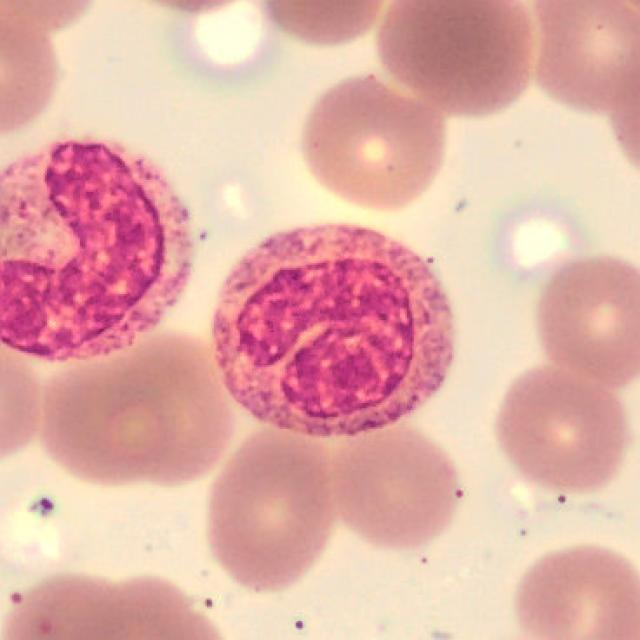Bastonete: (212, 225, 456, 439), (0, 142, 195, 362)
